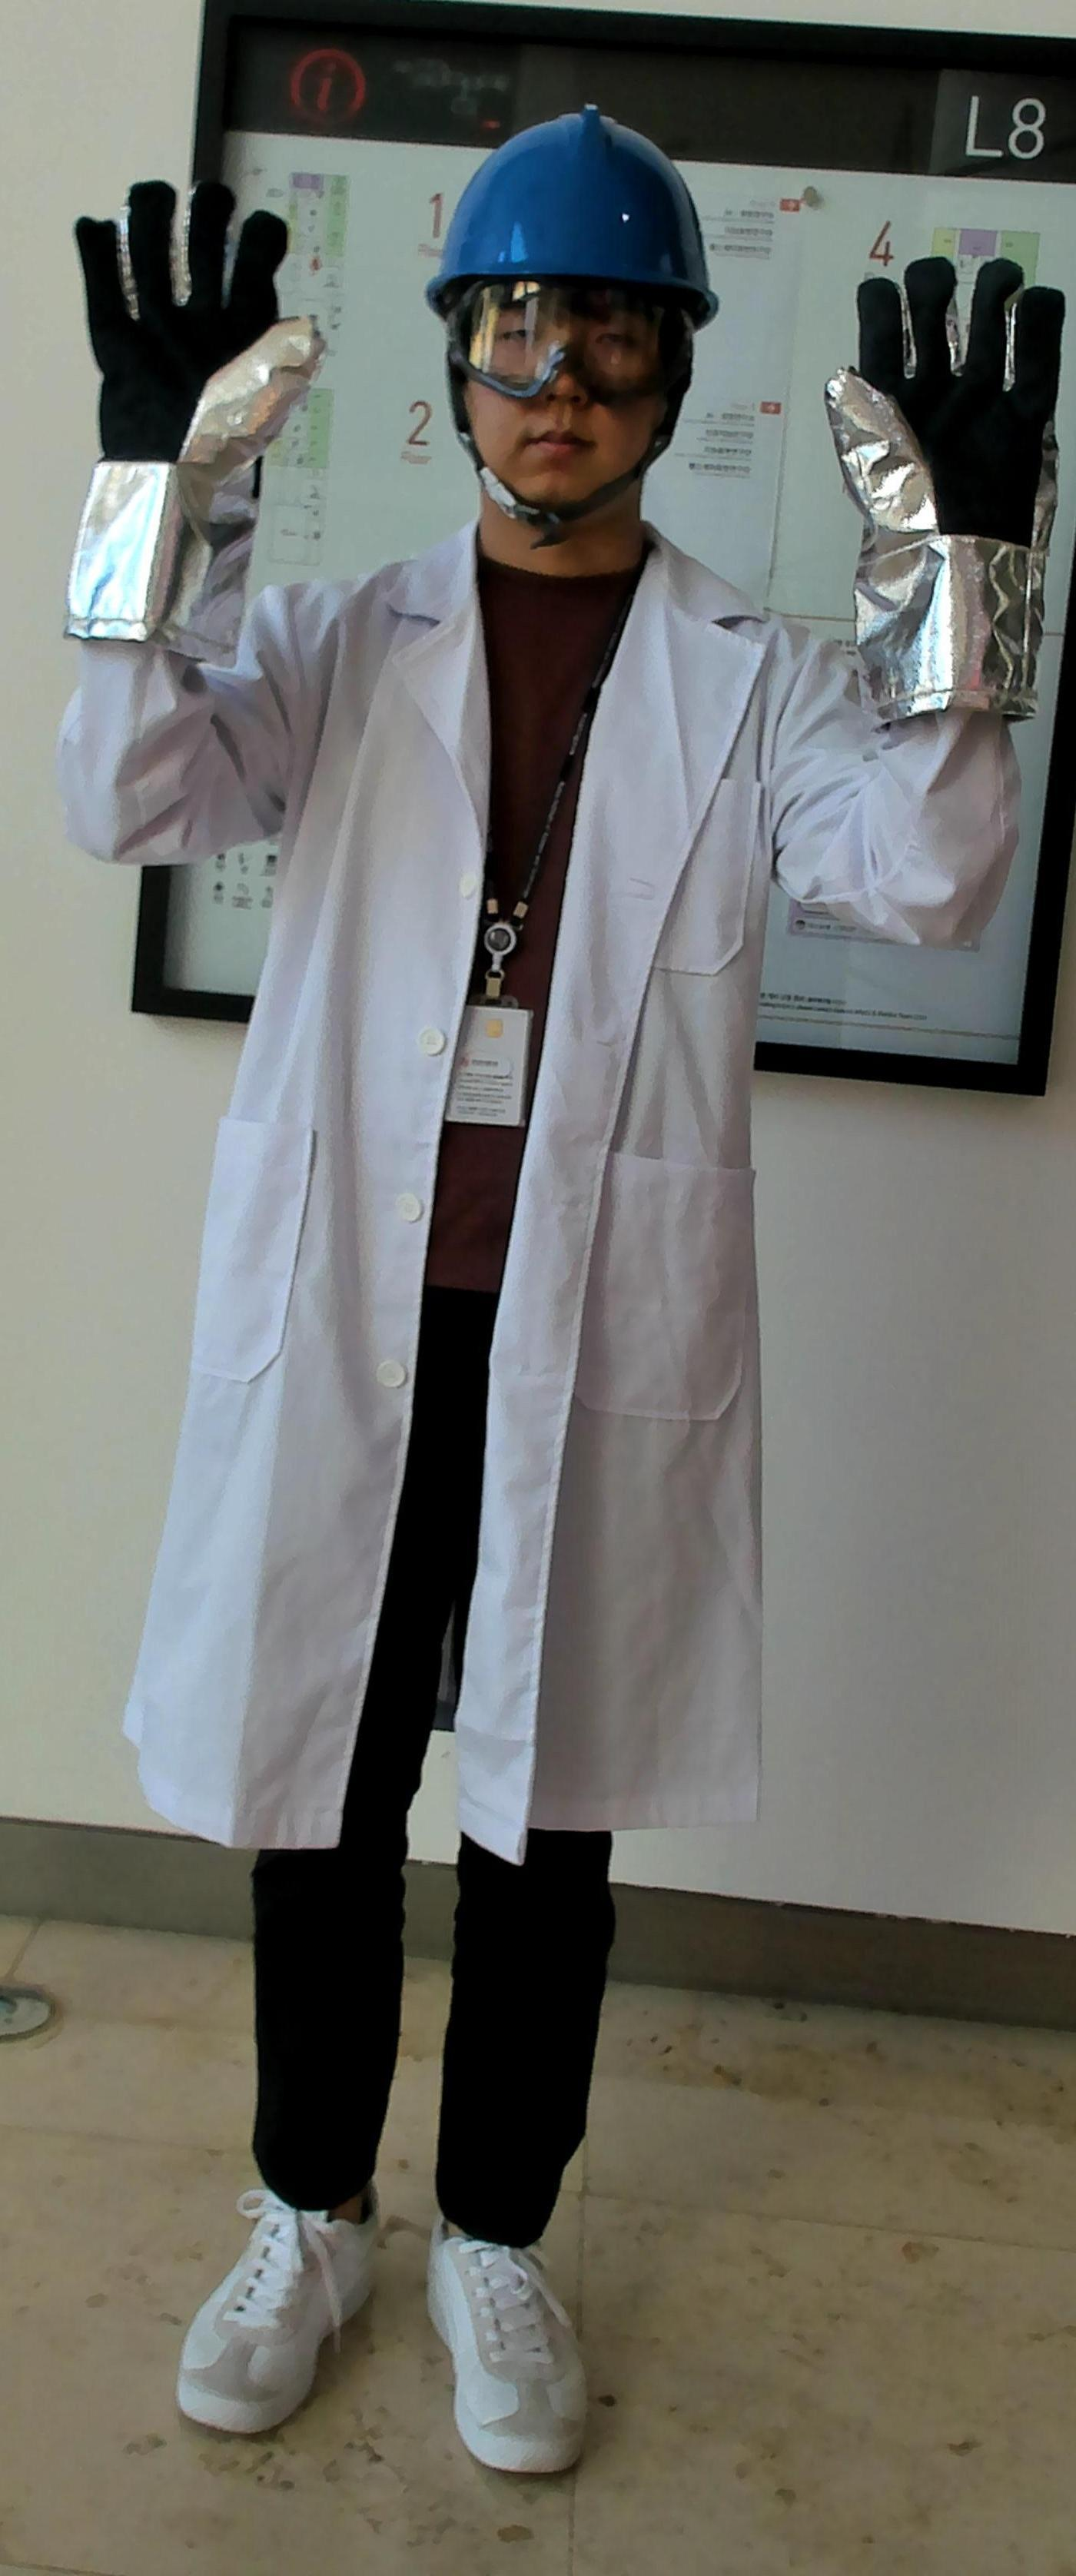lab_coat: (62, 616, 866, 1807)
